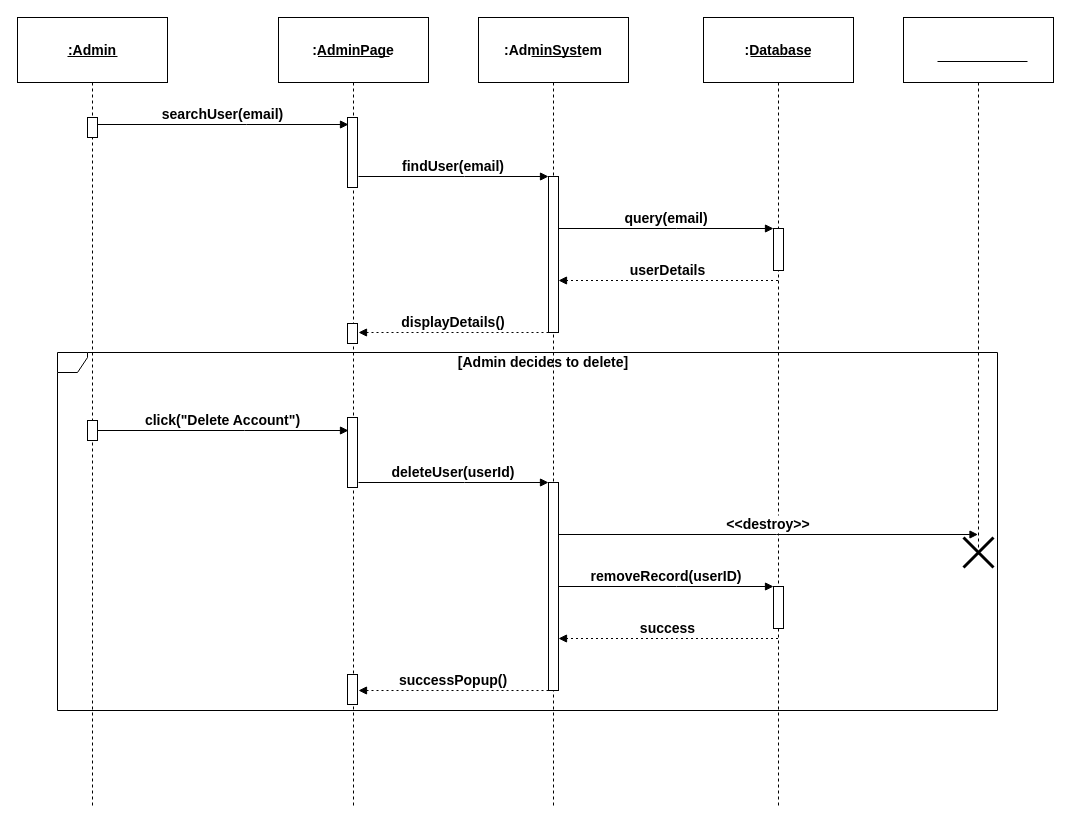
Image size: 1071x823. Some labels were removed from this diagram. The shapes that lost their labels are listed below. From the top down, each one's box as (x1, y1, x2, y2) in pixels, then its label:
(902, 16, 1054, 548): :UserAccount
(56, 352, 998, 710): opt
